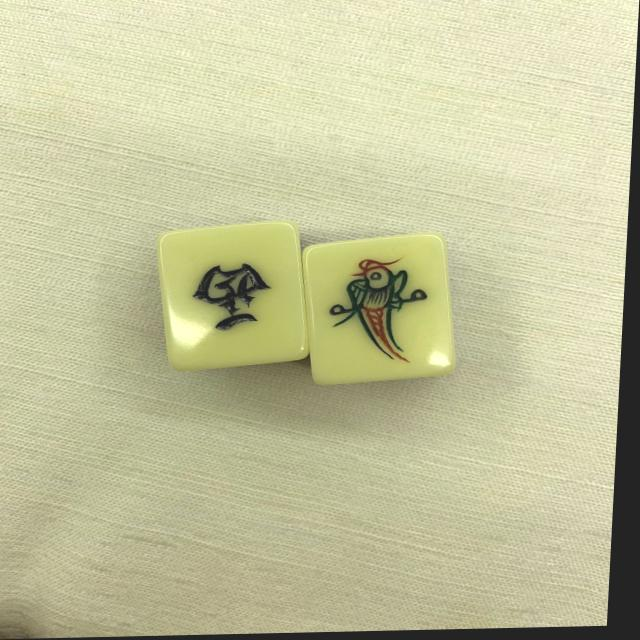1B: (301, 237, 461, 388)
WW: (168, 237, 292, 355)
